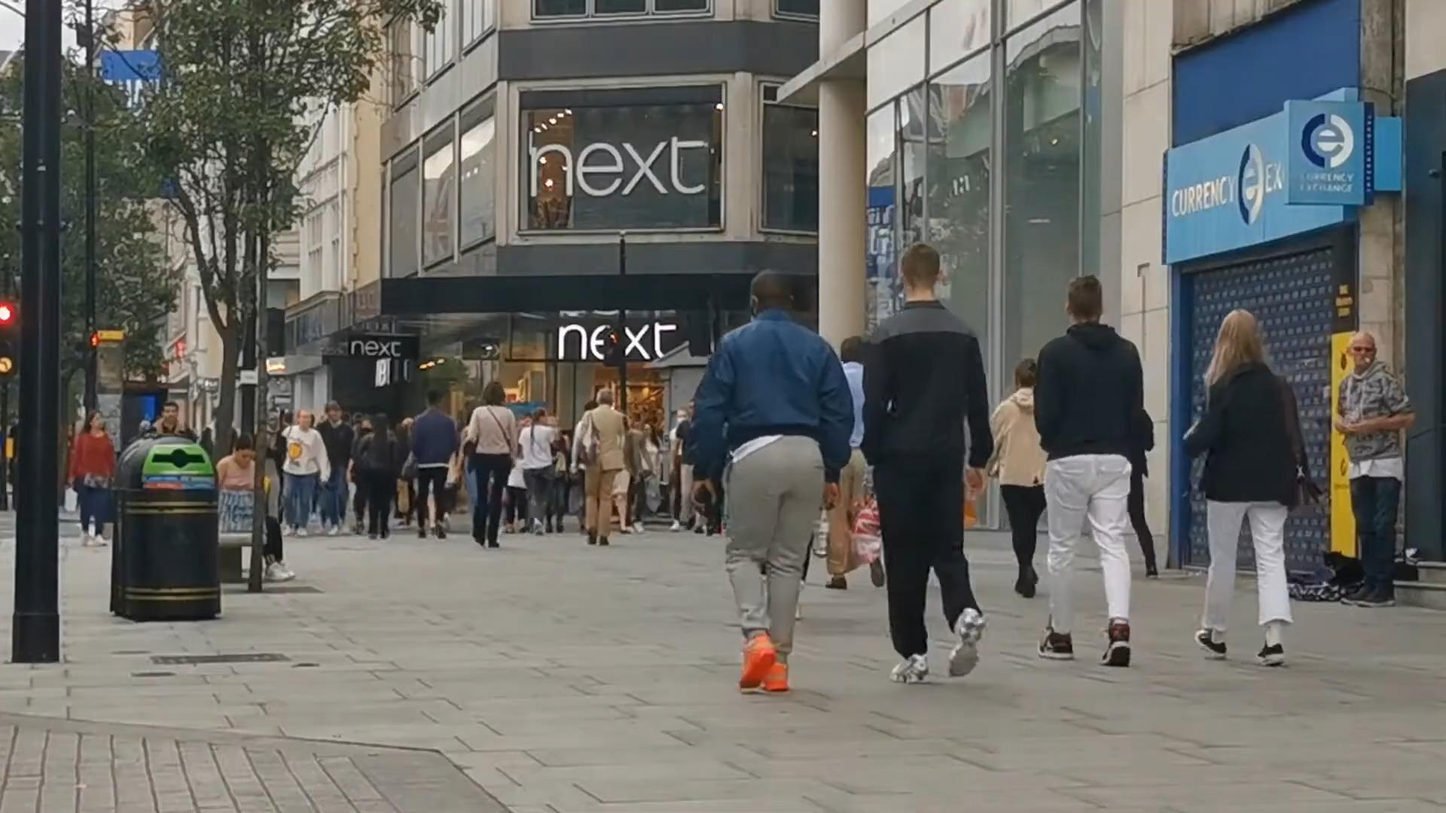no-helmet: (1215, 308, 1264, 362), (902, 241, 943, 298), (750, 269, 793, 322), (1066, 273, 1103, 324), (1350, 331, 1377, 369), (233, 432, 256, 468), (1015, 358, 1037, 391), (841, 335, 865, 364), (483, 381, 506, 406), (84, 408, 104, 431), (162, 401, 179, 423), (596, 387, 614, 407)
